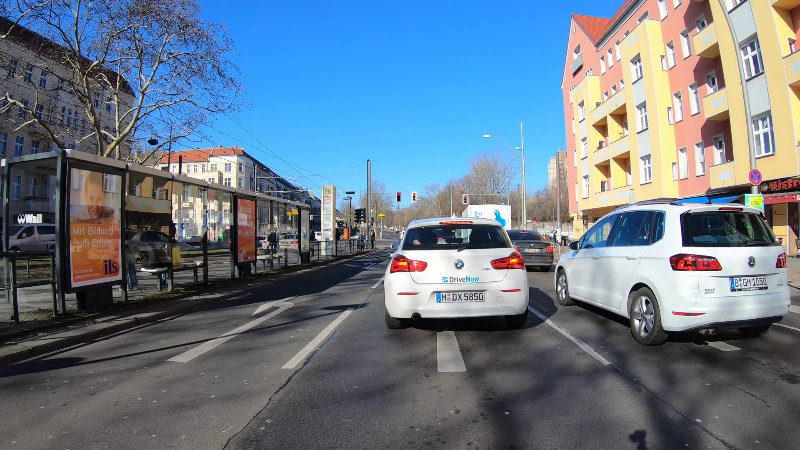Plate: (434, 288, 487, 304), (729, 274, 769, 291)
